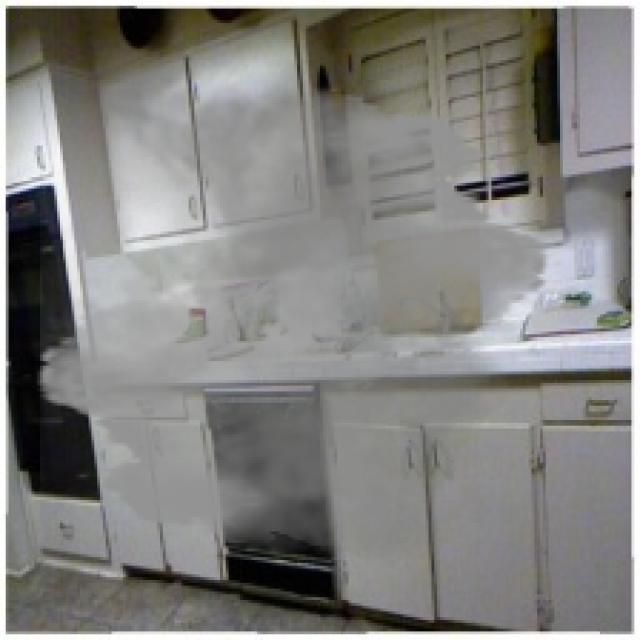smoke: (20, 52, 566, 574)
